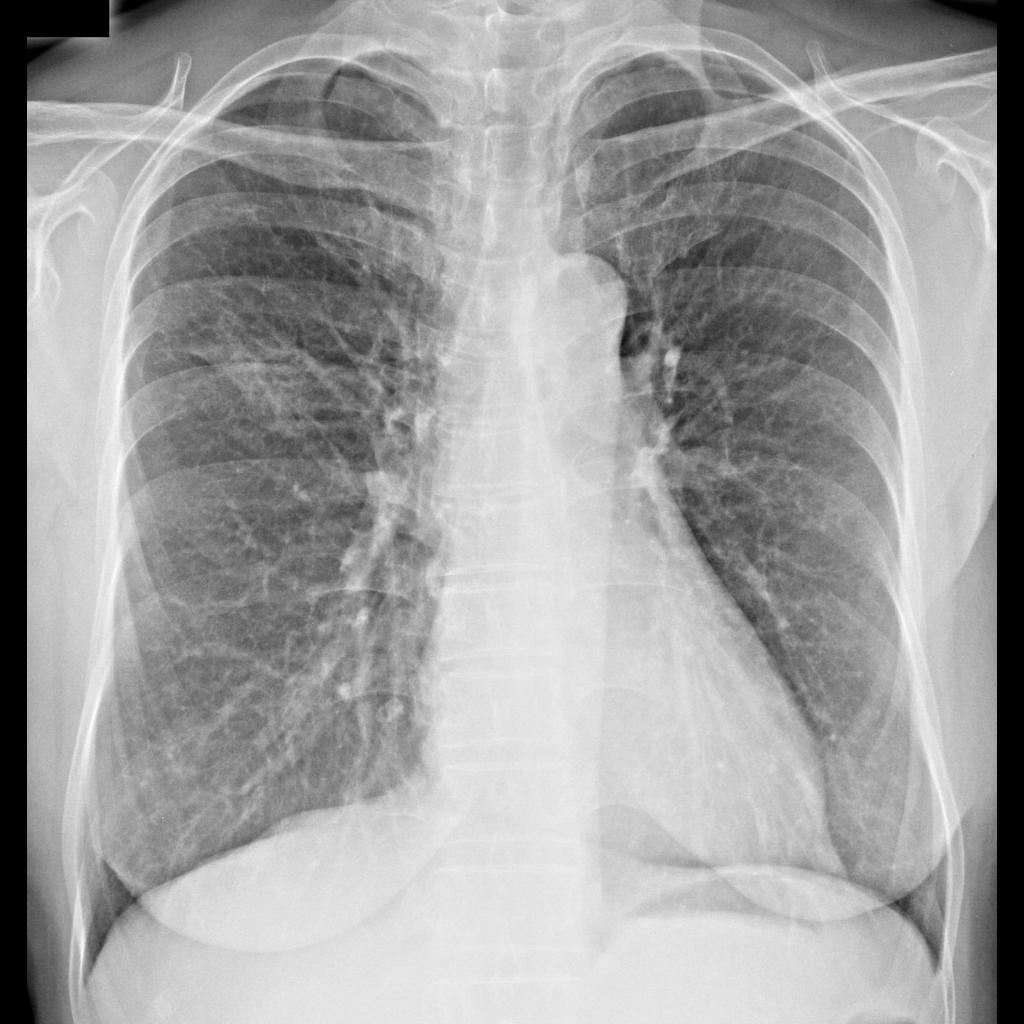Nodule: (213, 325, 317, 430)
